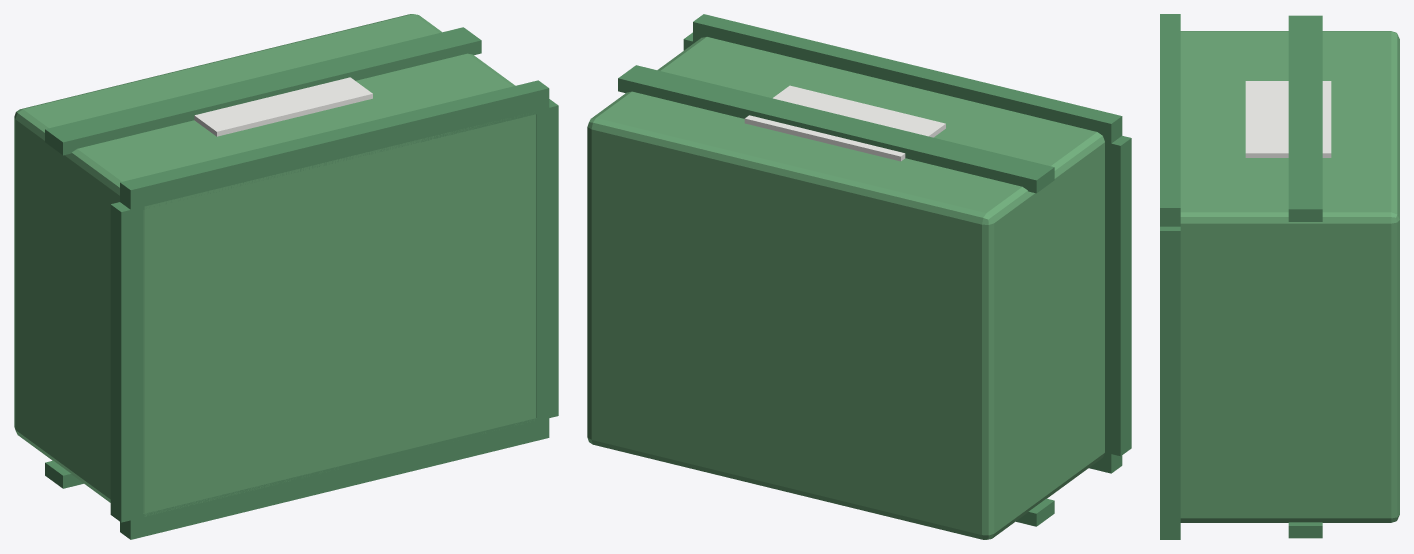
Rendered from GREEN.glb.
3 renders of one model, left to right at view 1: azimuth 30°, elevation 25°; view 2: azimuth 150°, elevation 25°; view 3: azimuth 270°, elevation 25°, orthographic. The views are drawn at different scales.
Visible parts, largest first — view 1: GREEN_body, GREEN_rim_b, GREEN_rib_b, GREEN_rim_l, GREEN_rim_f, GREEN_rim_r, GREEN_tag; view 2: GREEN_body, GREEN_rib_b, GREEN_rim_b, GREEN_rim_l, GREEN_tag; view 3: GREEN_body, GREEN_rib_b, GREEN_rim_r, GREEN_rim_b, GREEN_tag, GREEN_rib_f, GREEN_rim_f.
Part boxes in pixels (box(x1,y1,x2,y2)): GREEN_body: box(14, 14, 536, 516); GREEN_rim_b: box(120, 80, 549, 212); GREEN_rib_b: box(45, 27, 481, 155); GREEN_rim_l: box(110, 202, 143, 522); GREEN_rim_f: box(120, 415, 549, 539); GREEN_rim_r: box(536, 99, 558, 417); GREEN_tag: box(194, 77, 372, 136); GREEN_body: box(587, 37, 1104, 539); GREEN_rib_b: box(618, 65, 1054, 193); GREEN_rim_b: box(693, 14, 1122, 143); GREEN_rim_l: box(1105, 135, 1131, 456); GREEN_tag: box(744, 85, 945, 161); GREEN_body: box(1180, 31, 1399, 522); GREEN_rib_b: box(1288, 15, 1322, 221); GREEN_rim_r: box(1160, 226, 1180, 525); GREEN_rim_b: box(1160, 14, 1180, 226); GREEN_tag: box(1245, 81, 1331, 157); GREEN_rib_f: box(1288, 522, 1322, 538); GREEN_rim_f: box(1160, 525, 1180, 539).
Size of the model in its own units: 0.28 by 0.214 by 0.14.
